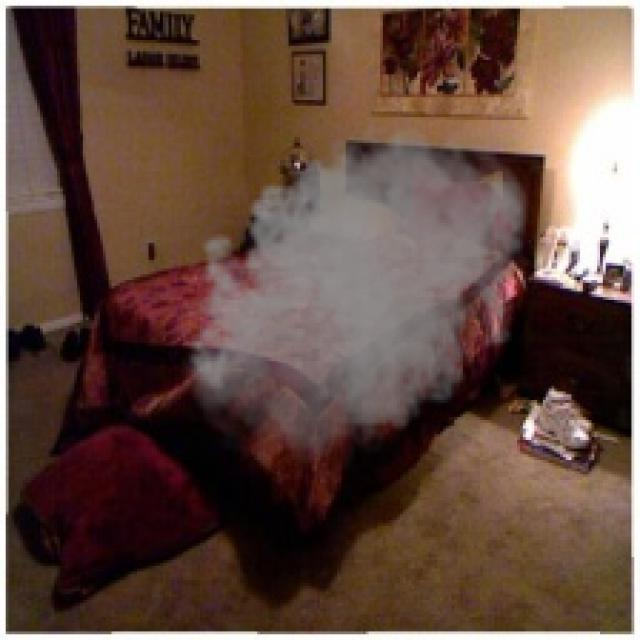Smoke: (177, 117, 534, 477)
